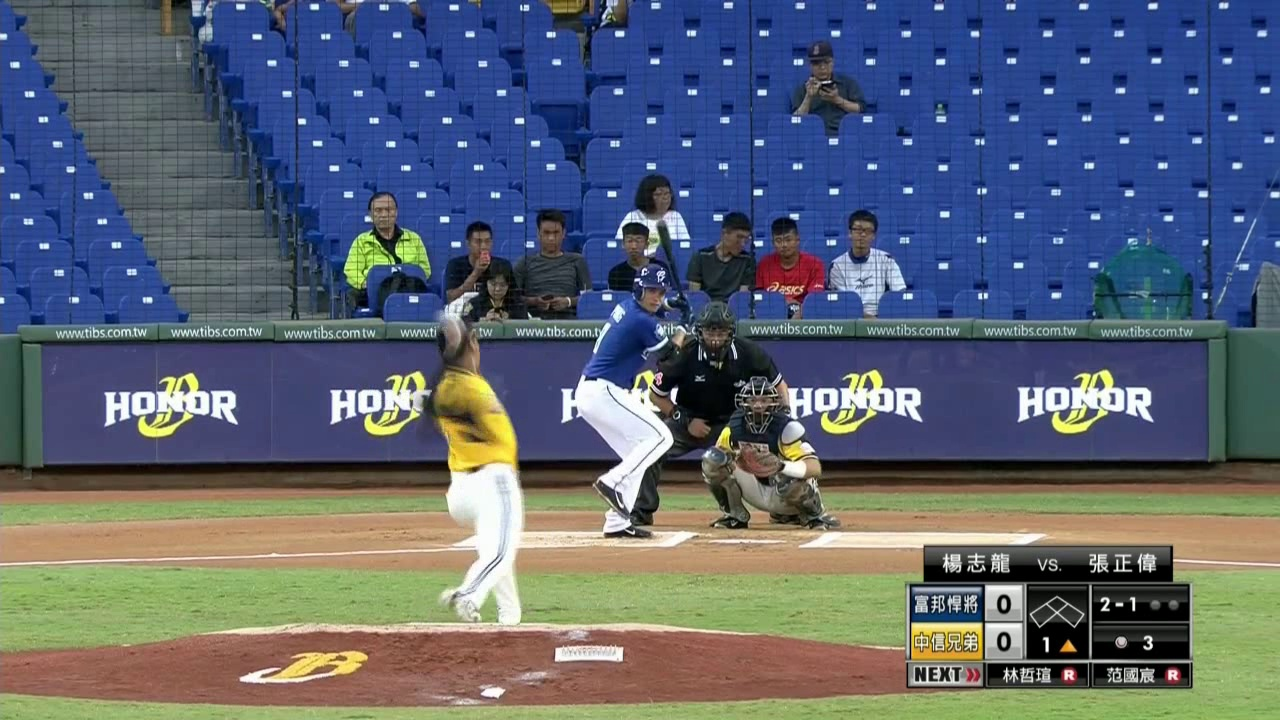ball: (442, 311, 465, 331)
base: (1027, 591, 1088, 629)
bat: (653, 217, 684, 301)
out: (1144, 595, 1182, 614)
score1: (985, 584, 1022, 621)
score2: (985, 624, 1023, 658)
session: (1035, 635, 1082, 655)
strikeball: (1094, 590, 1139, 615)
total: (1109, 631, 1162, 651)
